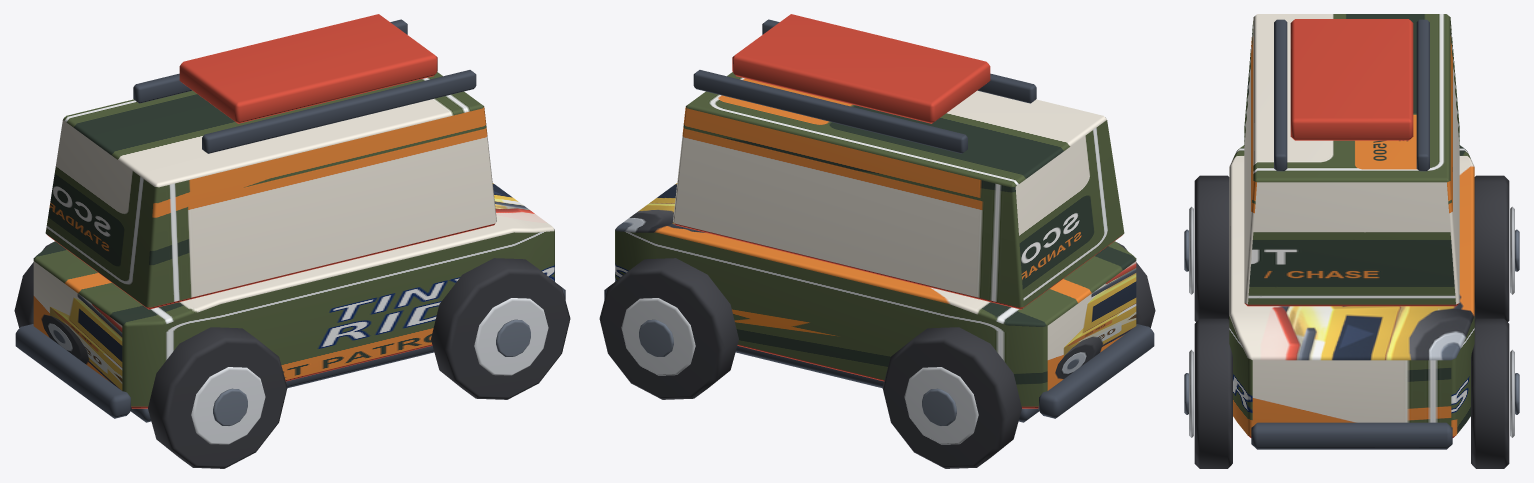
3 views of the same model, side by side, from view 1: azimuth 30°, elevation 25°; view 2: azimuth 150°, elevation 25°; view 3: azimuth 270°, elevation 25° (orthographic). The views are drawn at different scales.
Parts seen in each view (by area): view 1: DP-05_cabin, DP-05_connected_shell, utility load, Tire, Tire.002, utility rail, front bumper, Rim, Rim.002, underbody, utility rail.001, Hub.002 (+2 smaller); view 2: DP-05_cabin, DP-05_connected_shell, utility load, Tire.001, Tire.003, utility rail.001, front bumper, Rim.001, Rim.003, underbody, utility rail, Hub.003 (+2 smaller); view 3: DP-05_cabin, DP-05_connected_shell, utility load, Tire.002, Tire.003, rear bumper, Tire, Tire.001, utility rail, utility rail.001, Rim.002, Rim.003 (+2 smaller).
Boxes of the visible parts, x1,y1,x2,y2 form: DP-05_cabin: [45, 72, 496, 309]; DP-05_connected_shell: [33, 183, 554, 408]; utility load: [179, 14, 437, 123]; Tire: [148, 327, 287, 468]; Tire.002: [431, 258, 570, 399]; utility rail: [202, 70, 476, 153]; front bumper: [15, 324, 131, 418]; Rim: [191, 367, 265, 444]; Rim.002: [474, 298, 548, 375]; underbody: [131, 346, 434, 422]; utility rail.001: [133, 19, 407, 103]; Hub.002: [496, 319, 530, 356]; DP-05_cabin: [673, 72, 1124, 309]; DP-05_connected_shell: [615, 183, 1136, 408]; utility load: [732, 14, 990, 123]; Tire.001: [882, 327, 1021, 468]; Tire.003: [599, 258, 738, 399]; utility rail.001: [693, 70, 967, 153]; front bumper: [1038, 324, 1154, 418]; Rim.001: [904, 367, 978, 444]; Rim.003: [621, 298, 695, 375]; underbody: [735, 346, 1038, 422]; utility rail: [762, 19, 1036, 103]; Hub.003: [639, 319, 673, 356]; DP-05_cabin: [1244, 14, 1459, 306]; DP-05_connected_shell: [1229, 145, 1474, 437]; utility load: [1290, 19, 1413, 140]; Tire.002: [1194, 318, 1232, 468]; Tire.003: [1471, 318, 1509, 468]; rear bumper: [1251, 422, 1452, 449]; Tire: [1194, 175, 1229, 321]; Tire.001: [1474, 175, 1509, 321]; utility rail: [1274, 19, 1287, 171]; utility rail.001: [1416, 19, 1429, 171]; Rim.002: [1189, 349, 1193, 437]; Rim.003: [1510, 349, 1514, 437].
Bounding box in the file's own units: 370 × 247 × 227.
